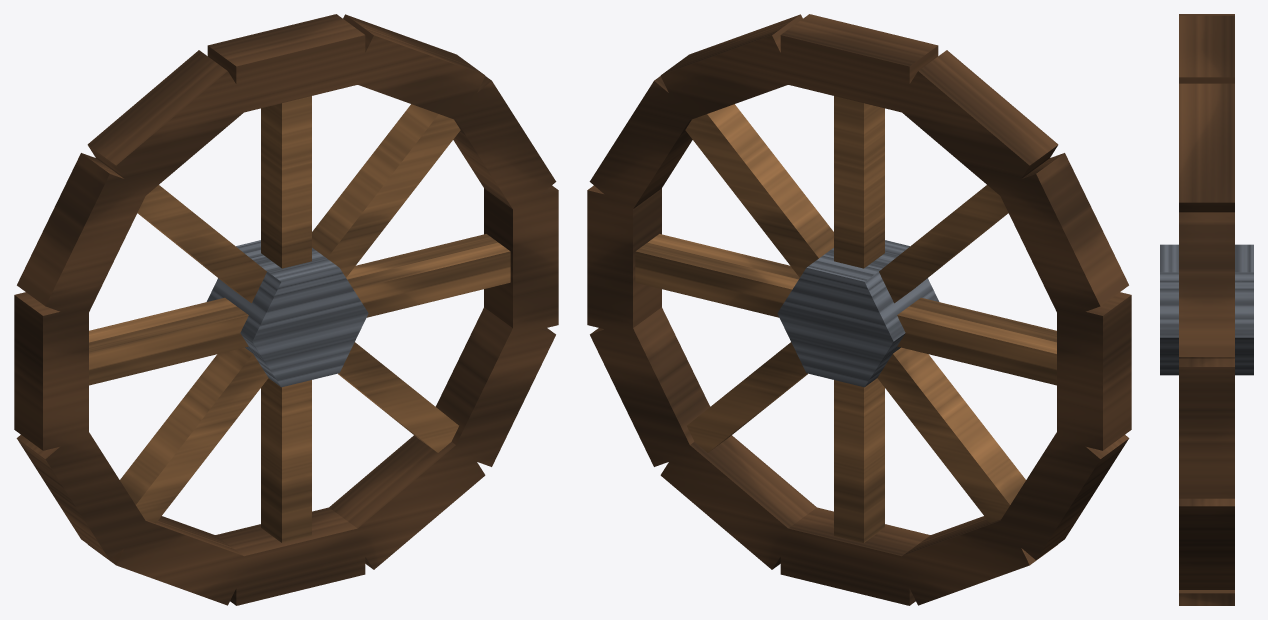
Rendered from ship_wheel.fbx.
3 renders of one model, left to right at view 1: azimuth 30°, elevation 25°; view 2: azimuth 150°, elevation 25°; view 3: azimuth 270°, elevation 25°, orthographic. The views are drawn at different scales.
Visible parts, largest first — view 1: ship_wheel; view 2: ship_wheel; view 3: ship_wheel.
Part boxes in pixels (box(x1,y1,x2,y2)): ship_wheel: box(14, 14, 558, 605); ship_wheel: box(587, 14, 1131, 605); ship_wheel: box(1160, 14, 1253, 605).
Bounding box in the file's own units: 62 × 62 × 10.
